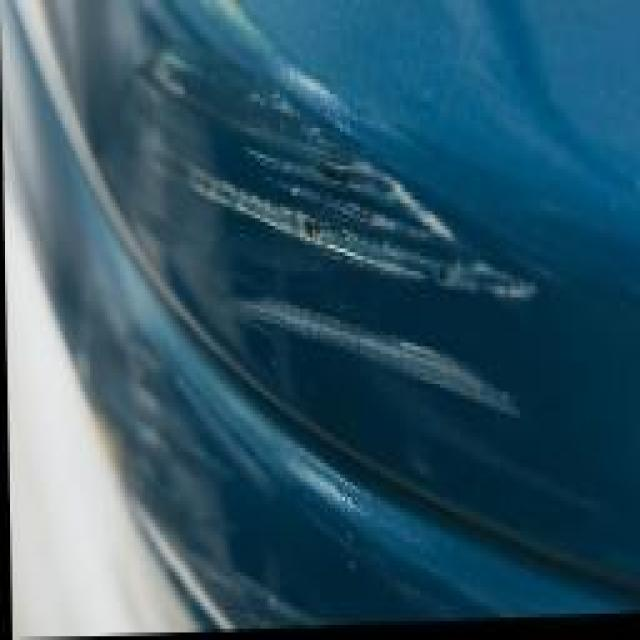Bumper: (100, 331, 267, 616)
Dickey: (152, 8, 574, 425)
